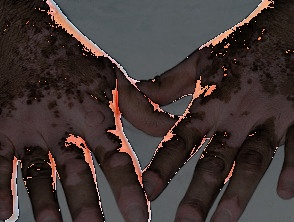vitiligo: (0, 0, 182, 222), (128, 0, 294, 222)
